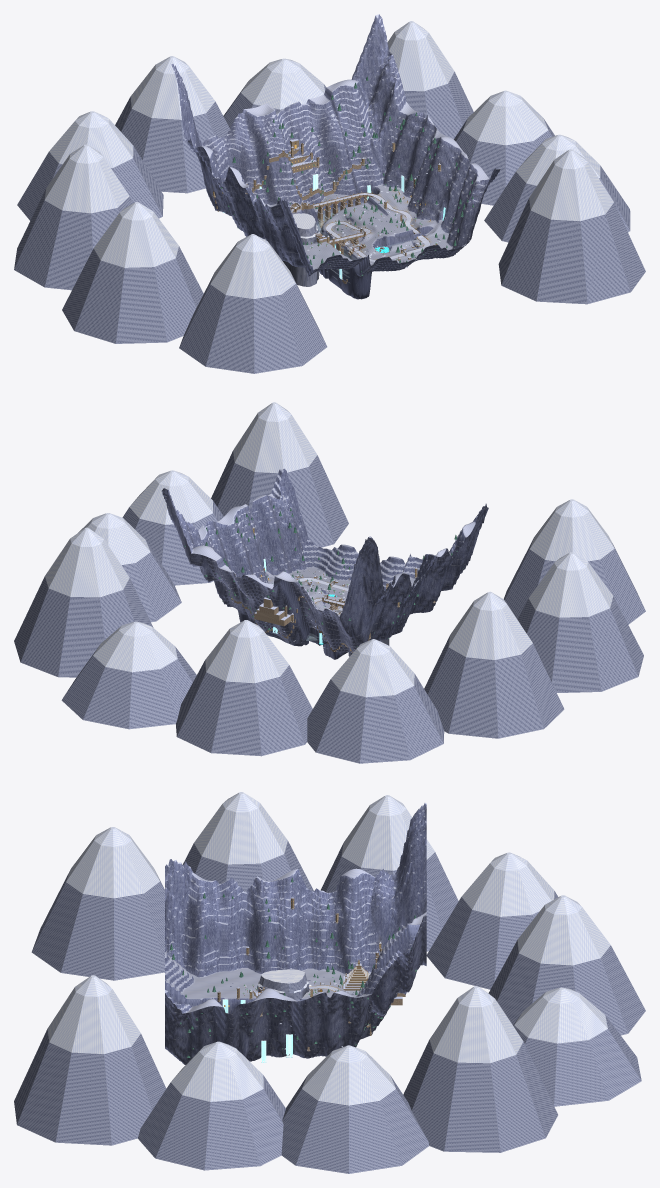
3 renders of one model, top to bottom at view 1: azimuth 30°, elevation 25°; view 2: azimuth 150°, elevation 25°; view 3: azimuth 270°, elevation 25°, orthographic. The views are drawn at different scales.
Visible parts, largest first — view 1: Mountains, Far Peak 11, Far Peak 7, Far Peak 8, Far Peak 6, Far Peak 4, Far Peak 1, Far Peak 5, Far Peak 2, Far Peak 12, Far Peak 3, Serpent Rock (+2 smaller); view 2: Mountains, Far Peak 6, Far Peak 4, Far Peak 5, Far Peak 2, Far Peak 7, Far Peak 3, Far Peak 11, Far Peak 8, Far Peak 12, Far Peak 1, Great Keep; view 3: Mountains, Far Peak 11, Far Peak 2, Far Peak 8, Far Peak 12, Far Peak 1, Far Peak 4, Far Peak 3, Far Peak 5, Far Peak 7, Far Peak 6, Serpent Rock.
Boxes of the visible parts, bbox=[...] form: Mountains: bbox=[171, 14, 500, 299]; Far Peak 11: bbox=[498, 149, 645, 304]; Far Peak 7: bbox=[62, 202, 203, 343]; Far Peak 8: bbox=[179, 234, 327, 373]; Far Peak 6: bbox=[14, 144, 132, 290]; Far Peak 4: bbox=[115, 56, 229, 193]; Far Peak 1: bbox=[454, 90, 554, 205]; Far Peak 5: bbox=[17, 111, 163, 220]; Far Peak 2: bbox=[387, 21, 473, 139]; Far Peak 12: bbox=[484, 134, 630, 242]; Far Peak 3: bbox=[223, 58, 326, 128]; Serpent Rock: bbox=[283, 213, 319, 286]; Mountains: bbox=[161, 468, 488, 659]; Far Peak 6: bbox=[424, 591, 564, 738]; Far Peak 4: bbox=[176, 620, 312, 756]; Far Peak 5: bbox=[307, 639, 444, 763]; Far Peak 2: bbox=[14, 527, 153, 677]; Far Peak 7: bbox=[517, 552, 643, 692]; Far Peak 3: bbox=[61, 621, 196, 729]; Far Peak 11: bbox=[211, 402, 348, 547]; Far Peak 8: bbox=[504, 499, 645, 624]; Far Peak 12: bbox=[122, 470, 223, 585]; Far Peak 1: bbox=[78, 513, 181, 622]; Great Keep: bbox=[254, 597, 291, 626]; Mountains: bbox=[165, 803, 426, 1064]; Far Peak 11: bbox=[14, 975, 166, 1145]; Far Peak 2: bbox=[403, 986, 557, 1152]; Far Peak 8: bbox=[31, 827, 164, 980]; Far Peak 12: bbox=[138, 1041, 285, 1170]; Far Peak 1: bbox=[281, 1045, 429, 1173]; Far Peak 4: bbox=[488, 895, 645, 1035]; Far Peak 3: bbox=[513, 987, 641, 1106]; Far Peak 5: bbox=[426, 852, 558, 989]; Far Peak 7: bbox=[182, 792, 313, 891]; Far Peak 6: bbox=[321, 795, 458, 951]; Serpent Rock: bbox=[257, 969, 309, 1000].
Size of the model in its own units: 2183 by 691 by 1981.
Materials: 30 (30 with a texture image).
